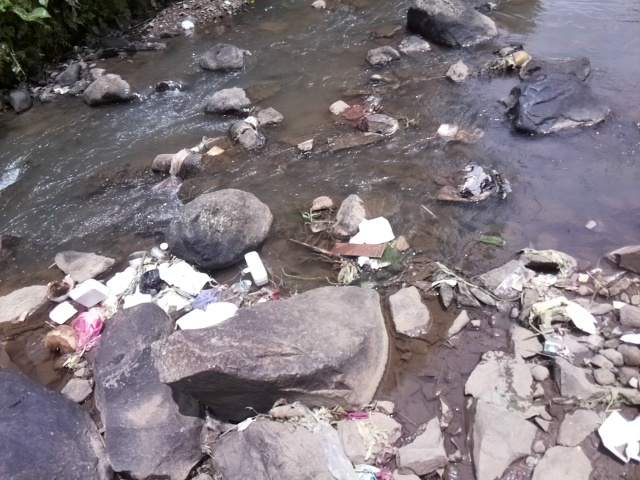Sampah_Plastik: (72, 311, 104, 350), (137, 267, 164, 297), (190, 290, 221, 308)
Sampah_Styrofoam: (159, 257, 212, 295), (174, 302, 241, 331), (347, 215, 398, 248), (106, 268, 142, 306), (69, 277, 109, 310), (242, 250, 271, 286), (45, 300, 79, 323)
